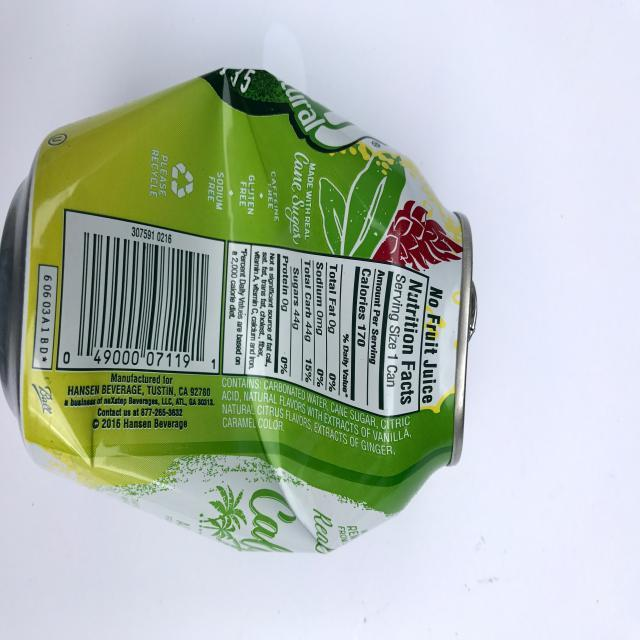metal: (1, 67, 478, 550)
